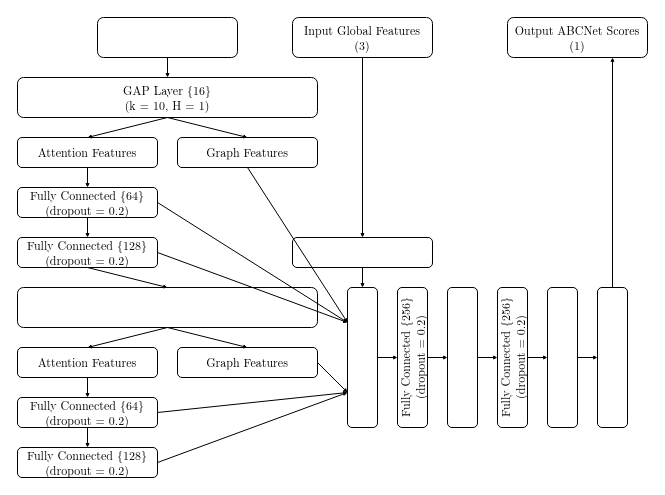
Some shapes in this 665 by 495 pixel diagram are drawn without their labels. Here are the shapes that lost their labels. From the top down, the centre of each, then its label:
At [167,37]: "Input Local Features (10 × 8)".
At [362,252]: "Fully Connected {16} (dropout = 0.2)".
At [167,307]: "GAP Layer {64} (k = 10, H = 2)".
At [362,357]: "Aggregation".
At [462,357]: "Max Polling".
At [562,357]: "Fully Connected {2}".
At [612,357]: "Softmax {2}".
